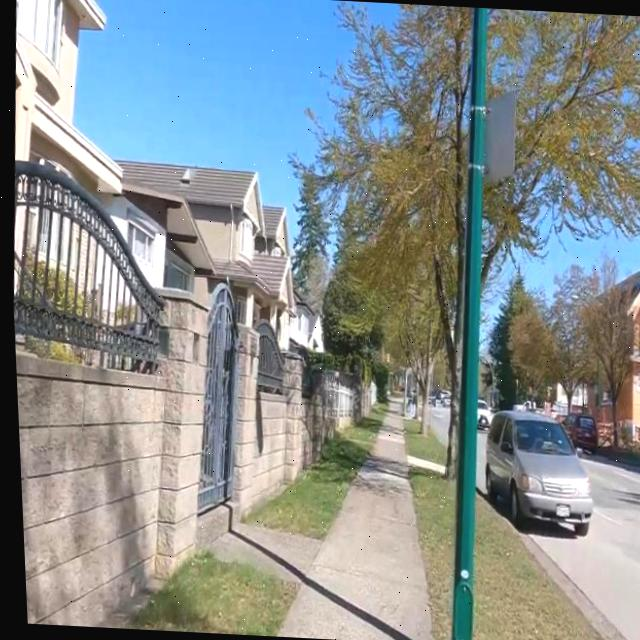Automobile: (482, 410, 587, 534), (558, 413, 593, 452), (474, 400, 488, 428)
Road: (525, 458, 640, 640), (426, 407, 443, 449), (471, 430, 481, 492), (472, 430, 480, 491)
Sidewalk: (213, 413, 426, 640)
